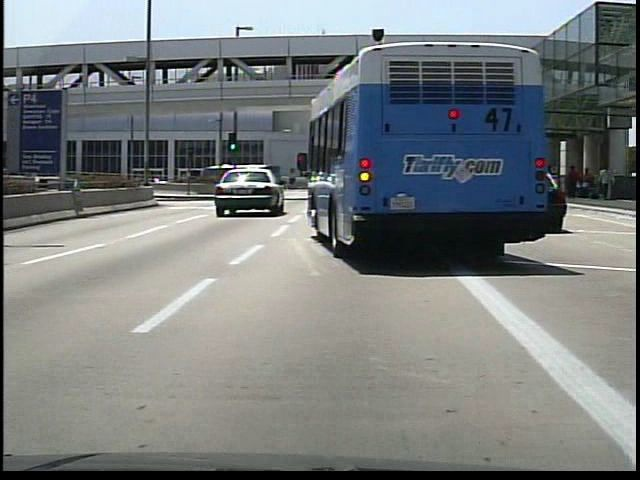person: (598, 166, 617, 199), (567, 163, 581, 200), (582, 167, 593, 199), (281, 173, 292, 191), (288, 174, 298, 193)
